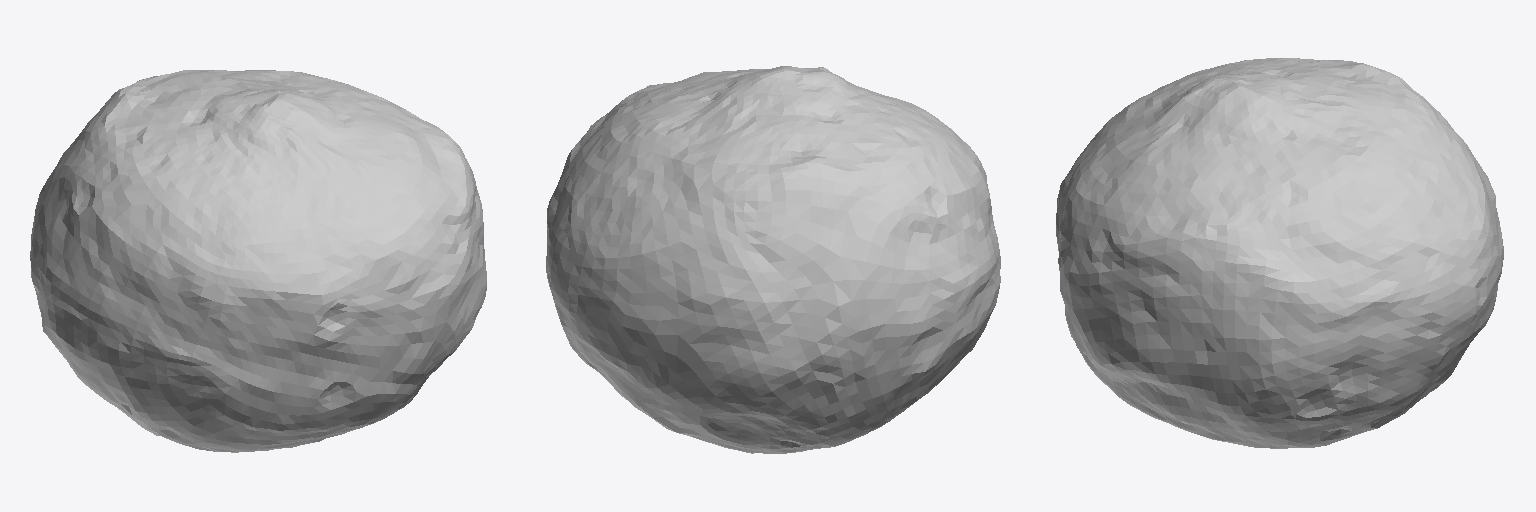
Rendered from asteroid.obj.
3 renders of one model, left to right at view 1: azimuth 30°, elevation 25°; view 2: azimuth 150°, elevation 25°; view 3: azimuth 270°, elevation 25°, orthographic.
Parts seen in each view (by area): view 1: asteroid; view 2: asteroid; view 3: asteroid.
Part boxes in pixels (left/top/right/bottom): asteroid: left=30, top=70, right=486, bottom=452; asteroid: left=546, top=66, right=1000, bottom=453; asteroid: left=1056, top=58, right=1503, bottom=448.
Bounding box in the file's own units: 5.62 × 4.55 × 5.42.